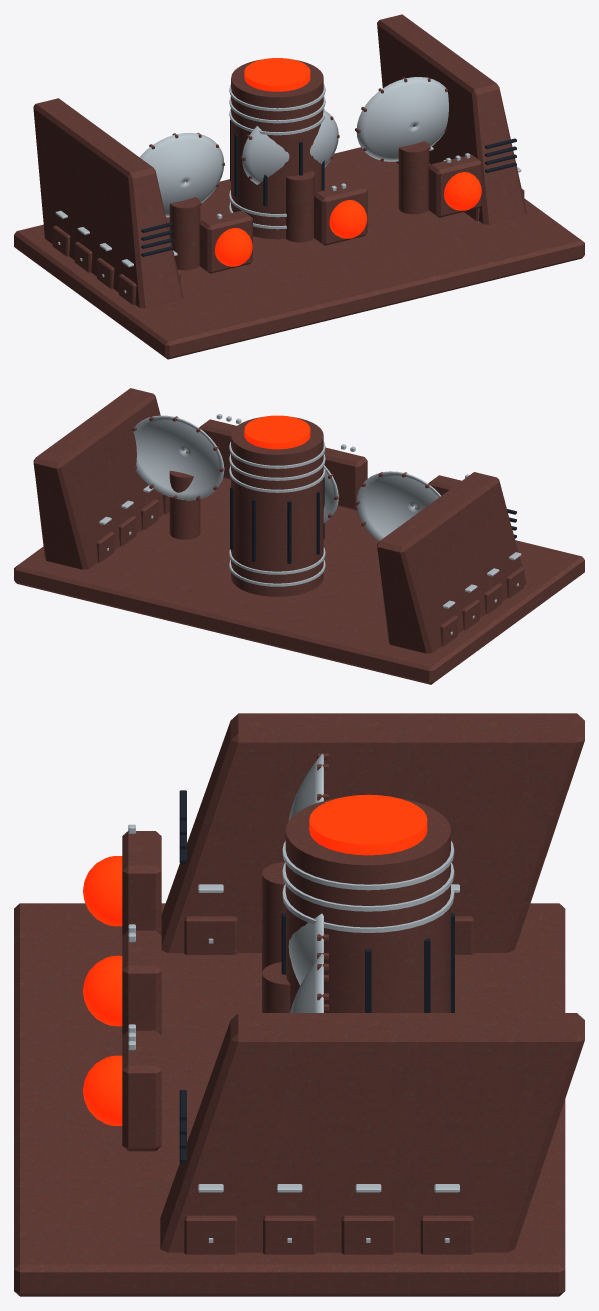
The model's file is fog_citadel.glb.
3 renders of one model, top to bottom at view 1: azimuth 30°, elevation 25°; view 2: azimuth 150°, elevation 25°; view 3: azimuth 270°, elevation 25°, orthographic. The views are drawn at different scales.
Visible parts, largest first — view 1: Citadel armored titanium, Reflector_2_Citadel reflector silver, Reflector_0_Citadel reflector silver, Reflector_1_Citadel reflector silver, Citadel reflector silver, Citadel cavity, Citadel hostile #FF2200, Feed_0_Citadel armored titanium, Feed_1_Citadel armored titanium, Feed_2_Citadel armored titanium, Feed_2_Citadel hostile #FF2200, Feed_1_Citadel hostile #FF2200 (+1 smaller); view 2: Citadel armored titanium, Reflector_2_Citadel reflector silver, Reflector_0_Citadel reflector silver, Citadel reflector silver, Citadel hostile #FF2200, Feed_1_Citadel armored titanium, Citadel cavity, Feed_2_Citadel armored titanium, Reflector_1_Citadel reflector silver; view 3: Citadel armored titanium, Citadel hostile #FF2200, Citadel reflector silver, Feed_2_Citadel armored titanium, Feed_0_Citadel armored titanium, Feed_1_Citadel armored titanium, Citadel cavity, Feed_1_Citadel hostile #FF2200, Feed_0_Citadel hostile #FF2200, Feed_2_Citadel hostile #FF2200, Reflector_1_Citadel reflector silver, Reflector_2_Citadel reflector silver (+1 smaller).
Part boxes in pixels (x1,y1,x2,y2): Citadel armored titanium: [14, 14, 584, 359]; Reflector_2_Citadel reflector silver: [356, 77, 448, 161]; Reflector_0_Citadel reflector silver: [139, 132, 224, 217]; Reflector_1_Citadel reflector silver: [242, 109, 338, 184]; Citadel reflector silver: [55, 84, 521, 293]; Citadel cavity: [141, 119, 516, 256]; Citadel hostile #FF2200: [244, 58, 310, 91]; Feed_0_Citadel armored titanium: [199, 210, 252, 273]; Feed_1_Citadel armored titanium: [314, 182, 367, 245]; Feed_2_Citadel armored titanium: [428, 154, 481, 217]; Feed_2_Citadel hostile #FF2200: [444, 172, 481, 210]; Feed_1_Citadel hostile #FF2200: [329, 200, 367, 238]; Citadel armored titanium: [14, 388, 584, 684]; Reflector_2_Citadel reflector silver: [133, 415, 224, 500]; Reflector_0_Citadel reflector silver: [356, 471, 440, 541]; Citadel reflector silver: [99, 414, 521, 634]; Citadel hostile #FF2200: [244, 415, 310, 449]; Feed_1_Citadel armored titanium: [324, 447, 367, 510]; Citadel cavity: [230, 477, 516, 563]; Feed_2_Citadel armored titanium: [200, 419, 236, 479]; Reflector_1_Citadel reflector silver: [323, 465, 338, 522]; Citadel armored titanium: [14, 713, 584, 1296]; Citadel hostile #FF2200: [309, 794, 427, 855]; Citadel reflector silver: [128, 824, 459, 1242]; Feed_2_Citadel armored titanium: [122, 1030, 161, 1151]; Feed_0_Citadel armored titanium: [122, 831, 161, 935]; Feed_1_Citadel armored titanium: [122, 930, 161, 1035]; Citadel cavity: [179, 790, 454, 1162]; Feed_1_Citadel hostile #FF2200: [83, 955, 122, 1026]; Feed_0_Citadel hostile #FF2200: [83, 856, 122, 926]; Feed_2_Citadel hostile #FF2200: [83, 1055, 122, 1126]; Reflector_1_Citadel reflector silver: [288, 913, 323, 985]; Reflector_2_Citadel reflector silver: [290, 953, 323, 1012].
Size of the model in its own units: 22 by 8.3 by 14.5.
Materials: 4 (1 with a texture image).
